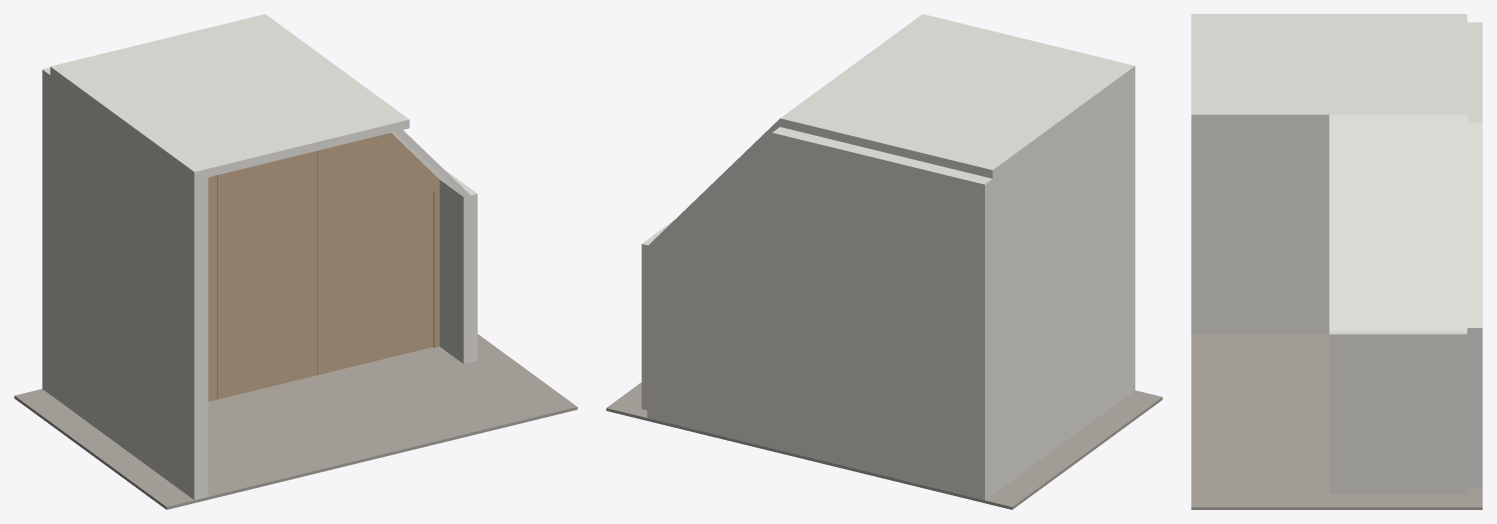
File: wardrobe-loft-beams-hatfield.glb
3 views of the same model, side by side, from view 1: azimuth 30°, elevation 25°; view 2: azimuth 150°, elevation 25°; view 3: azimuth 270°, elevation 25° (orthographic). The views are drawn at different scales.
Parts seen in each view (by area): view 1: Room: Left wall, Room: Floor, Room: Flat ceiling, Doors: Door 3, cut to the slope (hinged left), Doors: Door 2 (hinged right), Room: Right wall, Doors: Door 1 (hinged left), Face: Strip, right wall, Room: Sloping ceiling, Face: Band over the beams; view 2: Room: Back wall, Room: Left wall, Room: Flat ceiling, Room: Floor, Room: Right wall, Room: Sloping ceiling; view 3: Room: Sloping ceiling, Room: Left wall, Room: Flat ceiling, Room: Floor, Room: Right wall, Room: Back wall.
Boxes of the visible parts, bbox=[...] form: Room: Left wall: bbox=[42, 67, 208, 500]; Room: Floor: bbox=[14, 334, 577, 509]; Room: Flat ceiling: bbox=[50, 14, 409, 180]; Doors: Door 3, cut to the slope (hinged left): bbox=[317, 136, 433, 375]; Doors: Door 2 (hinged right): bbox=[217, 151, 316, 399]; Room: Right wall: bbox=[439, 169, 477, 363]; Doors: Door 1 (hinged left): bbox=[208, 175, 217, 401]; Face: Strip, right wall: bbox=[433, 191, 439, 347]; Room: Sloping ceiling: bbox=[391, 130, 477, 209]; Face: Band over the beams: bbox=[377, 133, 439, 196]; Room: Back wall: bbox=[647, 127, 978, 496]; Room: Left wall: bbox=[971, 75, 1135, 500]; Room: Flat ceiling: bbox=[780, 14, 1135, 178]; Room: Floor: bbox=[606, 382, 1162, 509]; Room: Right wall: bbox=[641, 219, 675, 409]; Room: Sloping ceiling: bbox=[641, 119, 779, 259]; Room: Sloping ceiling: bbox=[1329, 114, 1467, 350]; Room: Left wall: bbox=[1191, 22, 1482, 334]; Room: Flat ceiling: bbox=[1191, 14, 1467, 122]; Room: Floor: bbox=[1191, 334, 1482, 509]; Room: Right wall: bbox=[1329, 331, 1467, 494]; Room: Back wall: bbox=[1467, 28, 1482, 487].
Size of the model in its own units: 2.96 by 2.28 by 1.9.
